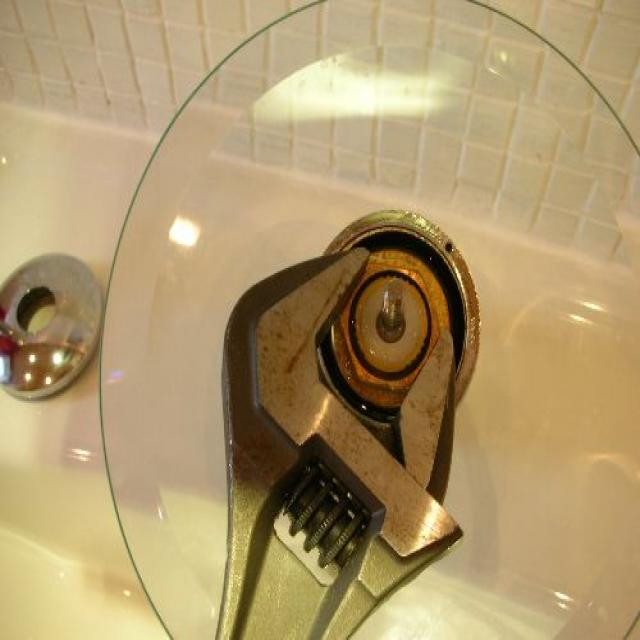wrench: (194, 240, 476, 640)
